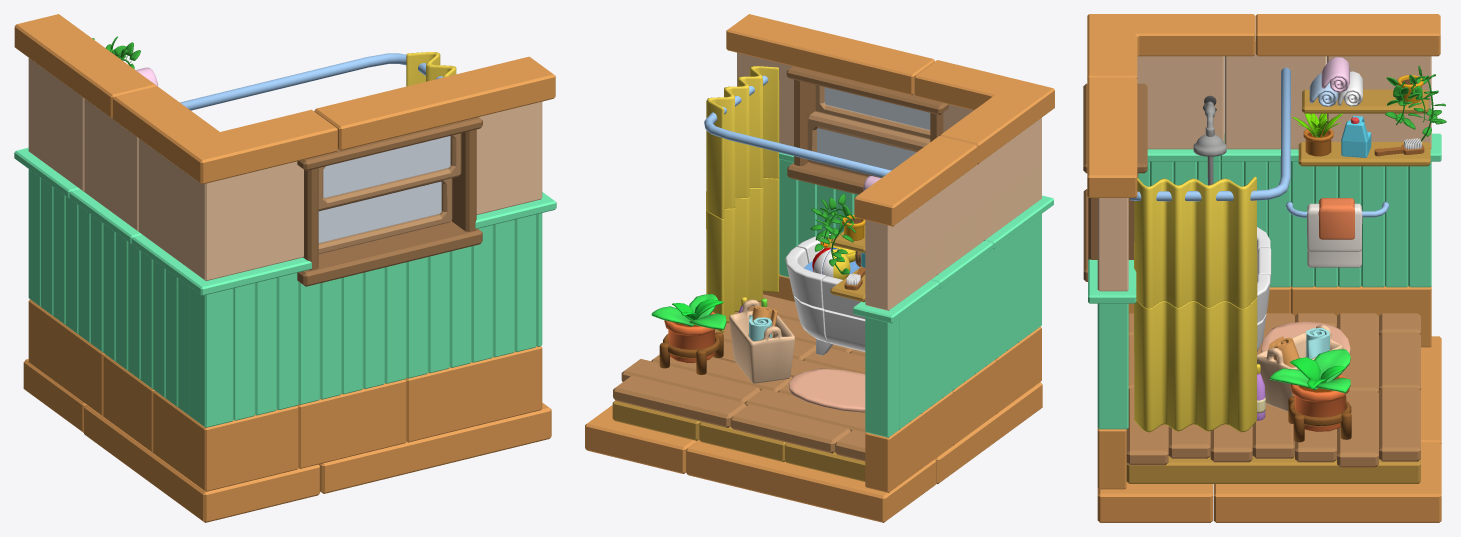
File: Level_P_28.fbx
3 views of the same model, side by side, from view 1: azimuth 30°, elevation 25°; view 2: azimuth 150°, elevation 25°; view 3: azimuth 270°, elevation 25° (orthographic). The views are drawn at different scales.
Visible parts, largest first — view 1: Cube.314, Cube.268, Cube.309, Cube.319, Cube.308, Cube.323, Cube.318, Cube.310, Cube.316, Cube.307, Cube.311, Cube.312 (+16 smaller); view 2: Cube.312, Plane.031, Cube.308, wBox.001, wBox.037, Plane.025, Cube.319, Cube.314, Cube.310, Cube.305, Plane.026, Cube.306 (+30 smaller); view 3: wBox.037, wBox.001, Cube.312, Plane.029, Plane.025, Cube.319, Cube.310, Cube.306, Cube.304, Cube.268, Plane.027, Plane.026 (+32 smaller).
Boxes of the visible parts, x1,y1,x2,y2 form: Cube.314: (132,234,320,427); Cube.268: (139,138,303,280); Cube.309: (450,192,556,367); Cube.319: (113,86,337,184); Cube.308: (314,56,555,150); Cube.323: (297,117,482,286); Cube.318: (153,391,298,491); Cube.310: (69,189,141,379); Cube.316: (405,346,542,442); Cube.307: (320,267,384,399); Cube.311: (385,251,449,383); Cube.312: (14,147,79,334); Cube.312: (853,280,939,437); Plane.031: (686,440,936,522); Cube.308: (726,14,934,95); wBox.001: (706,66,779,218); wBox.037: (706,178,779,332); Plane.025: (613,341,838,427); Cube.319: (914,60,1054,164); Cube.314: (984,195,1053,366); Cube.310: (930,241,993,405); Cube.305: (865,195,936,310); Plane.026: (730,384,866,461); Cube.306: (854,136,977,226); wBox.037: (1134,298,1257,432); wBox.001: (1134,176,1257,308); Cube.312: (1338,133,1441,287); Plane.029: (1213,442,1441,522); Plane.025: (1252,387,1420,467); Cube.319: (1087,14,1255,78); Cube.310: (1220,134,1337,287); Cube.306: (1255,14,1440,56); Cube.304: (1224,41,1326,149); Cube.268: (1137,56,1224,149); Plane.027: (1126,456,1420,483); Plane.026: (1295,313,1420,393).
Bounding box in the file's own units: 17.52 × 17.29 × 16.41.
